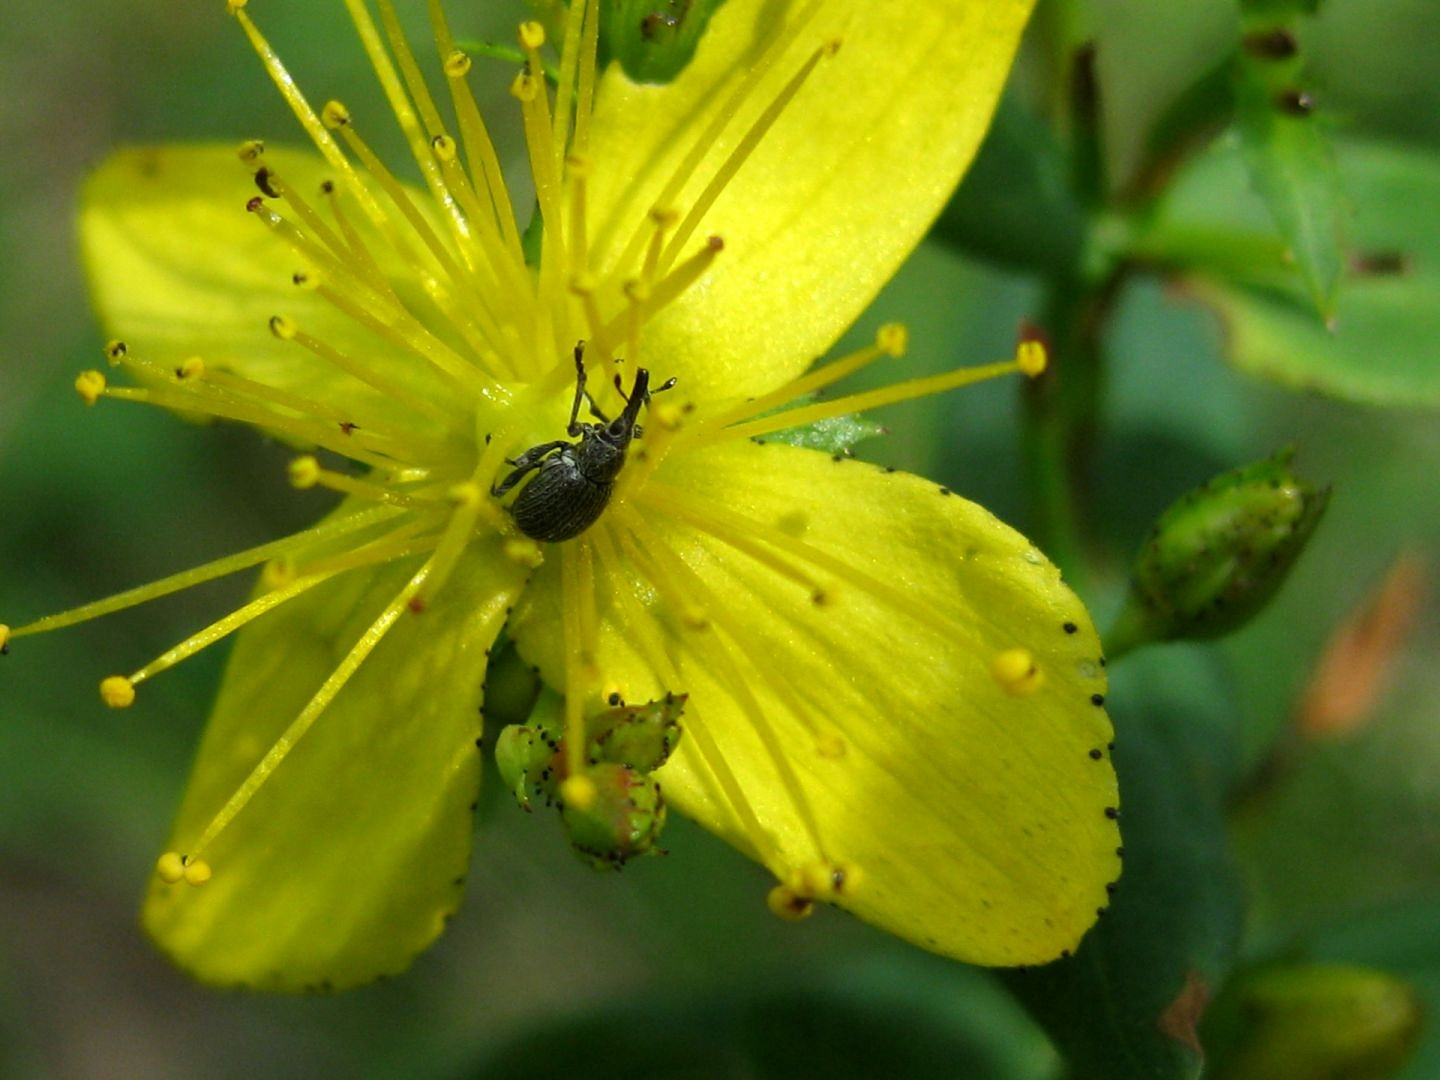dolgonosik: (488, 351, 677, 562)
